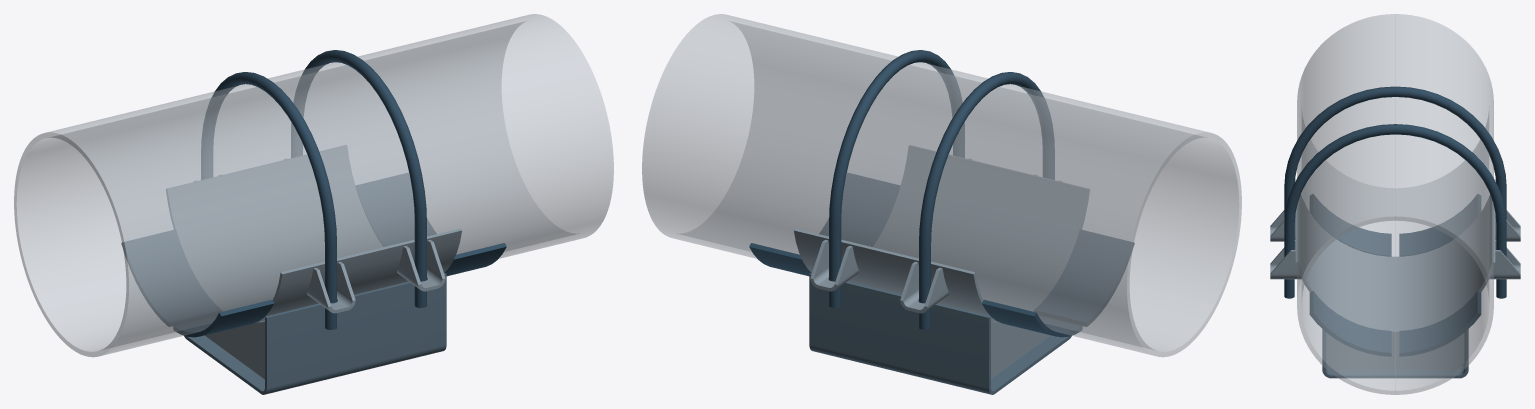
Rendered from TS-670.00.00-27-opora-dn377-H100.glb.
3 renders of one model, left to right at view 1: azimuth 30°, elevation 25°; view 2: azimuth 150°, elevation 25°; view 3: azimuth 270°, elevation 25°, orthographic. The views are drawn at different scales.
Parts seen in each view (by area): view 1: truba, podushka_0, skoba_1, upor_-1_1, homut_-1, homut_1, upor_1_1, rebro_2, upor_-1_-1, ushko_6, ushko_8, upor_1_-1; view 2: truba, podushka_0, skoba_1, upor_-1_-1, homut_-1, homut_1, upor_1_-1, rebro_2, upor_-1_1, ushko_5, ushko_7, upor_1_1; view 3: truba, podushka_0, homut_1, homut_-1, rebro_4, upor_1_1, upor_1_-1, upor_-1_1, upor_-1_-1, skoba_1, ushko_5, ushko_6 (+2 smaller).
Boxes of the visible parts, x1,y1,x2,y2 form: truba: [14, 14, 613, 357]; podushka_0: [166, 145, 461, 322]; skoba_1: [184, 273, 446, 394]; upor_-1_1: [121, 229, 221, 326]; homut_-1: [201, 72, 336, 329]; homut_1: [291, 50, 426, 307]; upor_1_1: [356, 173, 436, 246]; rebro_2: [205, 321, 264, 379]; upor_-1_-1: [173, 300, 273, 337]; ushko_6: [397, 240, 445, 291]; ushko_8: [307, 261, 355, 313]; upor_1_-1: [444, 243, 506, 276]; truba: [642, 14, 1241, 357]; podushka_0: [794, 145, 1089, 322]; skoba_1: [809, 273, 1071, 394]; upor_-1_-1: [1034, 229, 1134, 326]; homut_-1: [919, 72, 1054, 329]; homut_1: [829, 50, 964, 307]; upor_1_-1: [819, 173, 899, 246]; rebro_2: [991, 321, 1050, 379]; upor_-1_1: [982, 300, 1082, 337]; ushko_5: [810, 240, 858, 291]; ushko_7: [900, 261, 948, 313]; upor_1_1: [749, 243, 811, 276]; truba: [1297, 14, 1493, 394]; podushka_0: [1295, 195, 1495, 334]; homut_1: [1284, 124, 1506, 298]; homut_-1: [1284, 86, 1506, 219]; rebro_4: [1326, 333, 1464, 369]; upor_1_1: [1399, 291, 1481, 356]; upor_1_-1: [1309, 291, 1391, 356]; upor_-1_1: [1399, 194, 1480, 256]; upor_-1_-1: [1310, 194, 1391, 256]; skoba_1: [1322, 329, 1468, 378]; ushko_5: [1489, 239, 1520, 279]; ushko_6: [1270, 239, 1301, 279].
Bounding box in the file's own units: 917 × 497 × 479.
